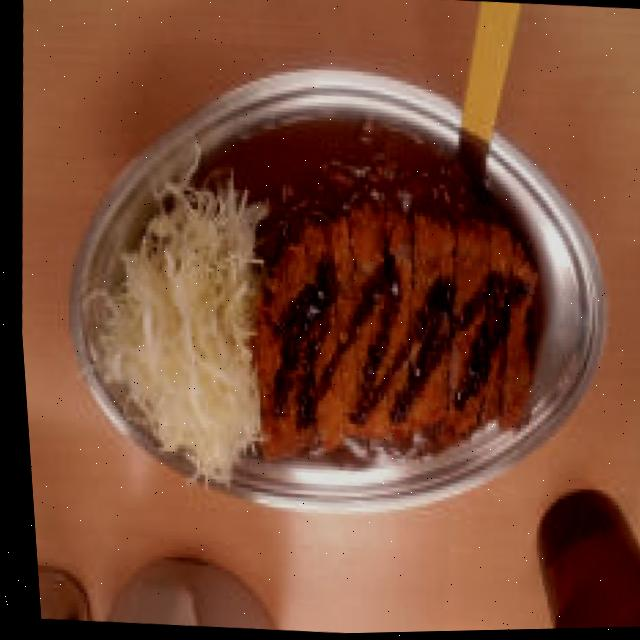猪肉菜式: (27, 43, 636, 549)
